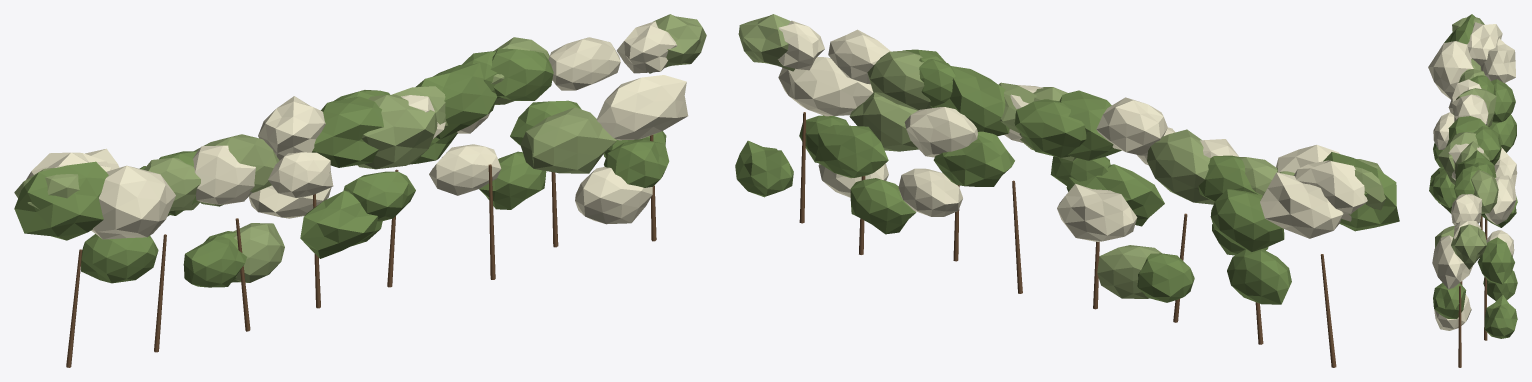
File: fagyal-soveny-6m.glb
3 renders of one model, left to right at view 1: azimuth 30°, elevation 25°; view 2: azimuth 150°, elevation 25°; view 3: azimuth 270°, elevation 25°, orthographic. The views are drawn at different scales.
Visible parts, largest first — view 1: korona-2, korona-5, korona-34, korona-39, korona-23, korona-20, korona-19, korona-27, korona-37, korona-7, korona-12, korona-36 (+23 smaller); view 2: korona-4, korona-39, korona-18, korona-13, korona-8, korona-22, korona-35, korona-26, korona-17, korona-27, korona-7, korona-28 (+23 smaller); view 3: korona-5, korona-39, korona-35, korona-41, korona-4, korona-42, korona-3, korona-28, korona-38, korona-31, korona-36, korona-17 (+30 smaller).
Boxes of the visible parts, box(x1,y1,x2,y2) form: korona-2: box(14, 161, 108, 240); korona-5: box(91, 165, 175, 239); korona-34: box(520, 107, 616, 173); korona-39: box(596, 75, 688, 140); korona-23: box(357, 94, 437, 169); korona-20: box(312, 96, 383, 167); korona-19: box(300, 190, 382, 258); korona-27: box(416, 63, 497, 139); korona-37: box(575, 167, 652, 224); korona-7: box(81, 234, 158, 283); korona-12: box(193, 145, 255, 204); korona-36: box(548, 37, 620, 90); korona-4: box(1260, 172, 1343, 238); korona-39: box(778, 57, 873, 116); korona-18: box(1057, 184, 1137, 241); korona-13: box(1147, 129, 1214, 204); korona-8: box(1210, 189, 1284, 251); korona-22: box(1014, 99, 1086, 157); korona-35: box(815, 125, 888, 178); korona-26: box(933, 131, 1014, 186); korona-17: box(1096, 97, 1167, 155); korona-27: box(933, 66, 1009, 136); korona-7: box(1227, 249, 1291, 304); korona-28: box(904, 107, 977, 157); korona-5: box(1428, 41, 1473, 99); korona-39: box(1432, 235, 1472, 289); korona-35: box(1477, 237, 1514, 284); korona-41: box(1484, 295, 1517, 338); korona-4: box(1481, 38, 1515, 82); korona-42: box(1451, 224, 1486, 269); korona-3: box(1467, 22, 1502, 66); korona-28: box(1485, 175, 1516, 224); korona-38: box(1433, 283, 1466, 318); korona-31: box(1471, 169, 1498, 213); korona-36: box(1451, 194, 1481, 225); korona-17: box(1451, 94, 1488, 125).
Size of the model in its own units: 6.43 by 1.95 by 1.04.
